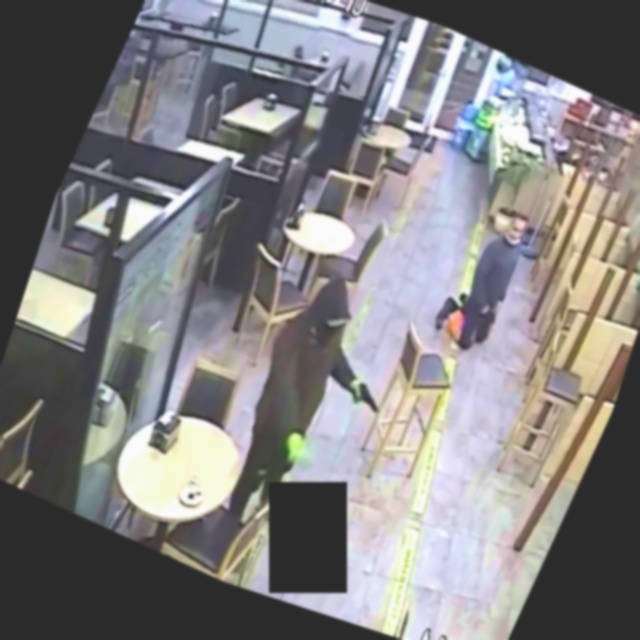gun: (334, 361, 404, 433)
